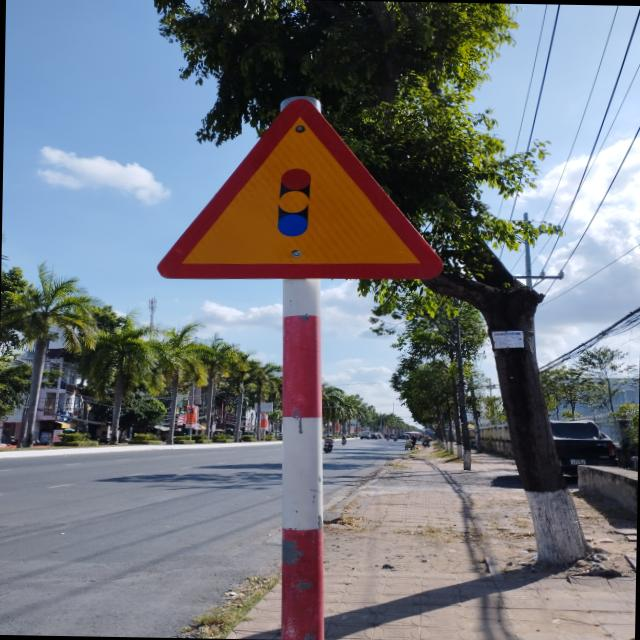Duong_Co_Go_Giam_Toc: (157, 95, 446, 283)
